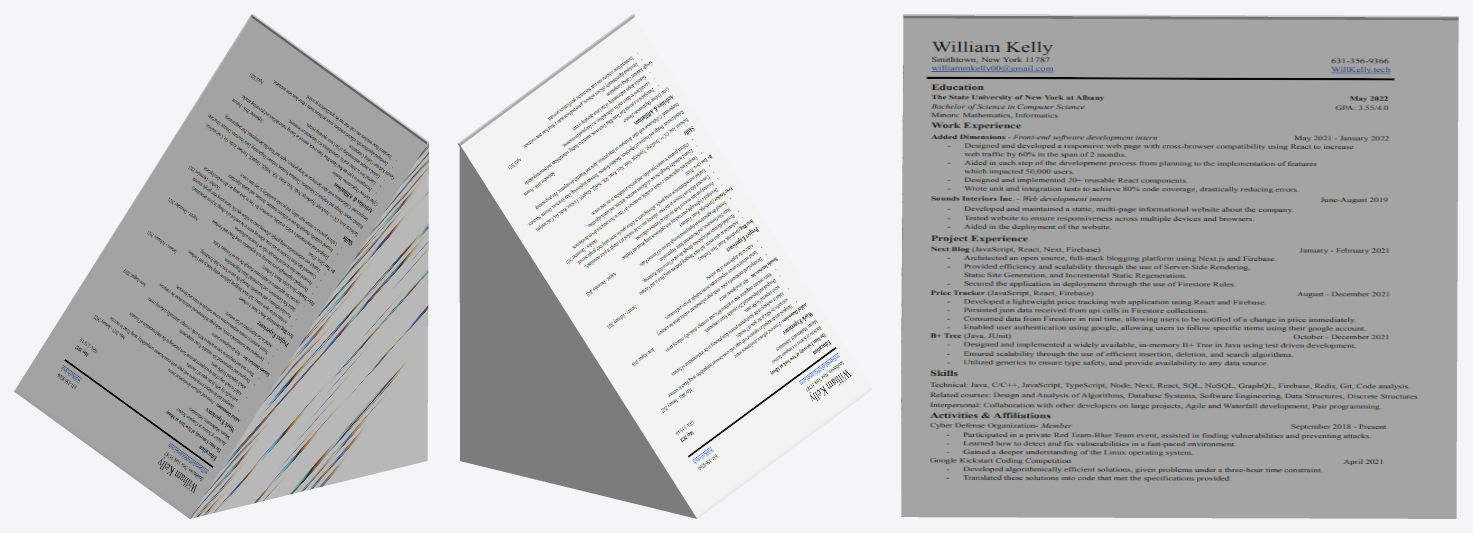
File: resume.gltf
The picture shows the model from 3 angles, left to right: view 1: azimuth 30°, elevation 25°; view 2: azimuth 150°, elevation 25°; view 3: azimuth 270°, elevation 25°; orthographic projection. The views are drawn at different scales.
Visible parts, largest first — view 1: Cube; view 2: Cube; view 3: Cube.
Boxes of the visible parts, x1,y1,x2,y2 form: Cube: (14,14,428,518); Cube: (457,14,872,518); Cube: (901,14,1458,518).
Size of the model in its own units: 0.4007 by 0.5103 by 0.5103.
Materials: 1 (1 with a texture image).
